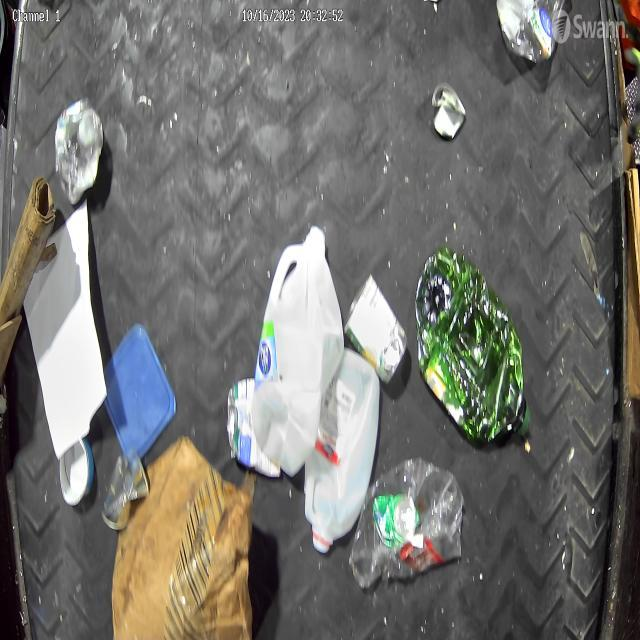can: (342, 276, 412, 386), (102, 448, 148, 532), (430, 80, 468, 142)
milk_jug: (251, 222, 345, 480), (304, 344, 384, 552)
